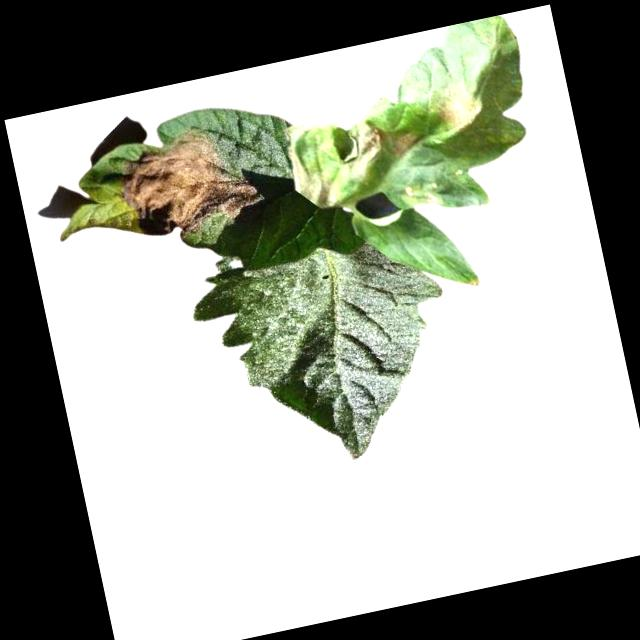Late_blight: (106, 121, 264, 251), (280, 133, 341, 217), (335, 120, 392, 188), (430, 84, 487, 140), (398, 177, 445, 214), (388, 129, 421, 161)
healthy: (182, 228, 473, 488)
